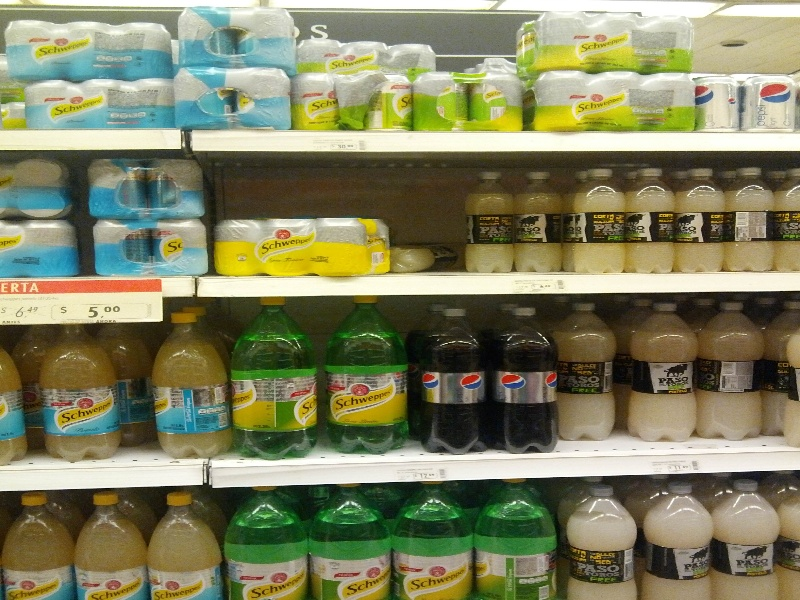lemonade: (322, 292, 412, 453), (232, 298, 322, 458), (32, 326, 130, 463), (154, 308, 238, 455), (417, 303, 490, 456), (491, 308, 563, 456), (556, 304, 623, 445), (629, 303, 696, 442), (700, 299, 763, 440), (572, 167, 625, 270), (467, 169, 516, 276)
